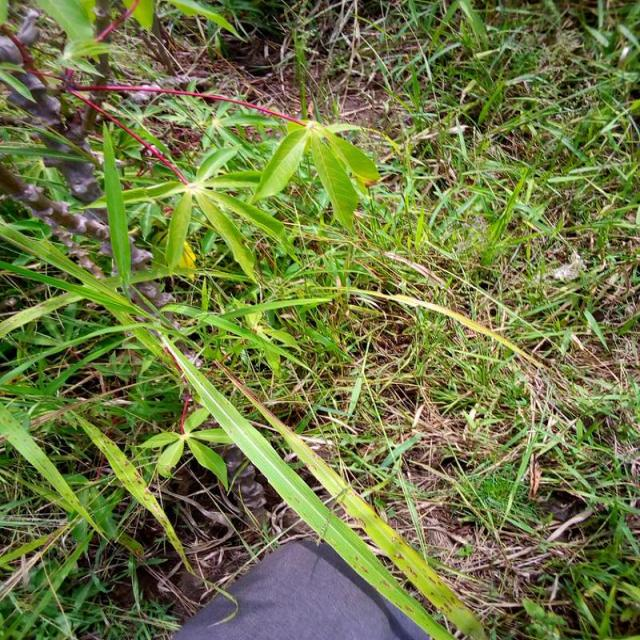cassava leaf: (250, 118, 379, 232)
